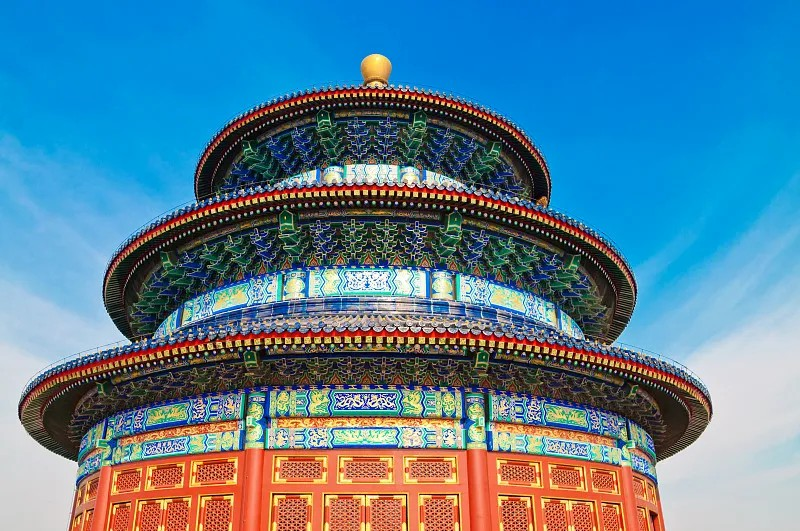Heaven: (16, 51, 714, 531)
